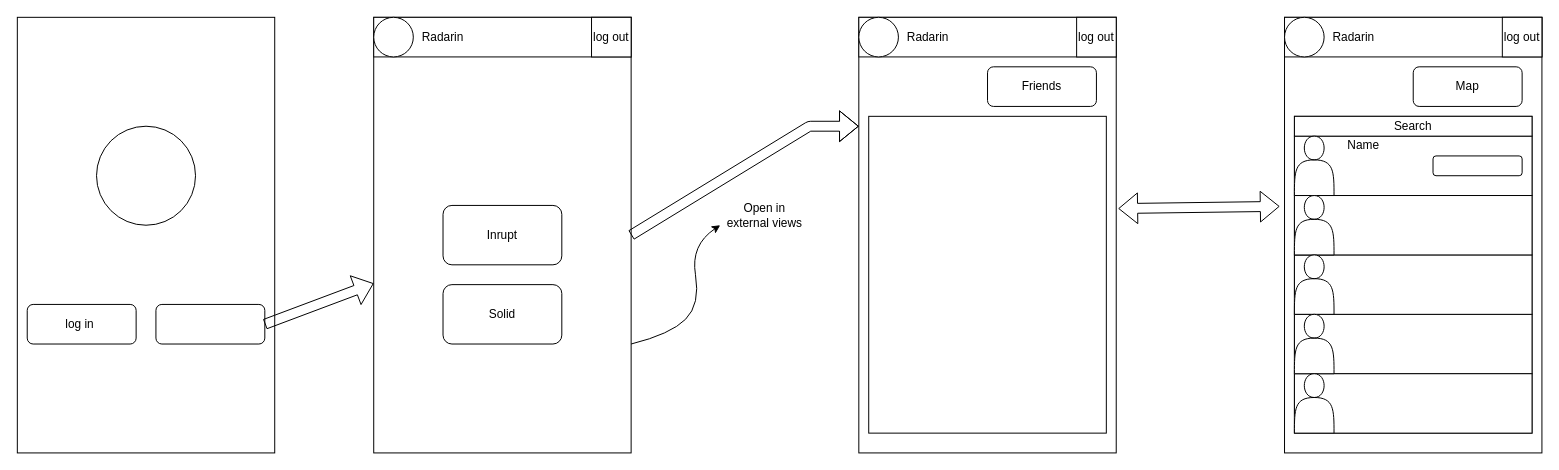
Some shapes in this 1559 by 470 pixel diagram are drawn without their labels. Each missing label, with the centre of its shape:
"logo" goes at point (146, 175).
"mapa" goes at point (987, 274).
"Register" goes at point (210, 323).
"Unfriend/befriend" goes at point (1477, 165).
